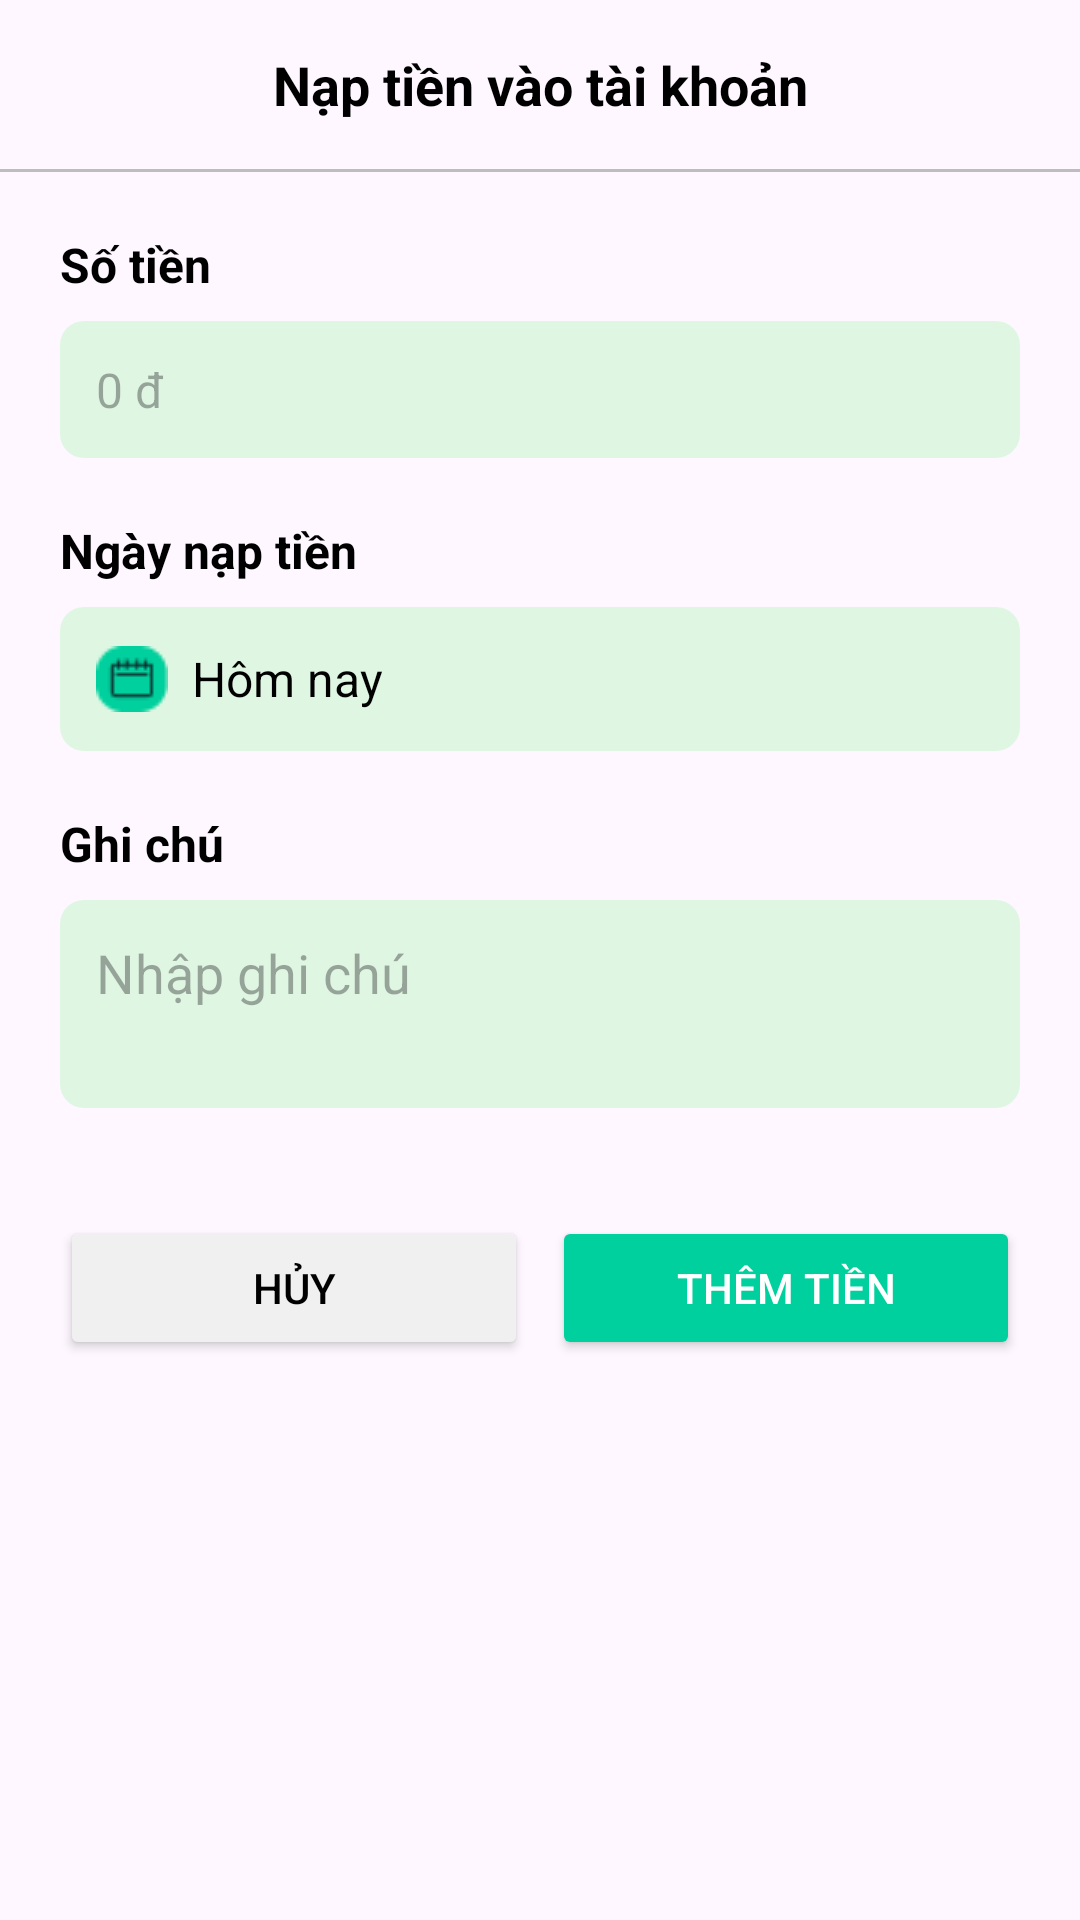

Named icons in this screenshot (1080w x 1920h) and their centers, point (x, y):
calendar: point (132, 679)
